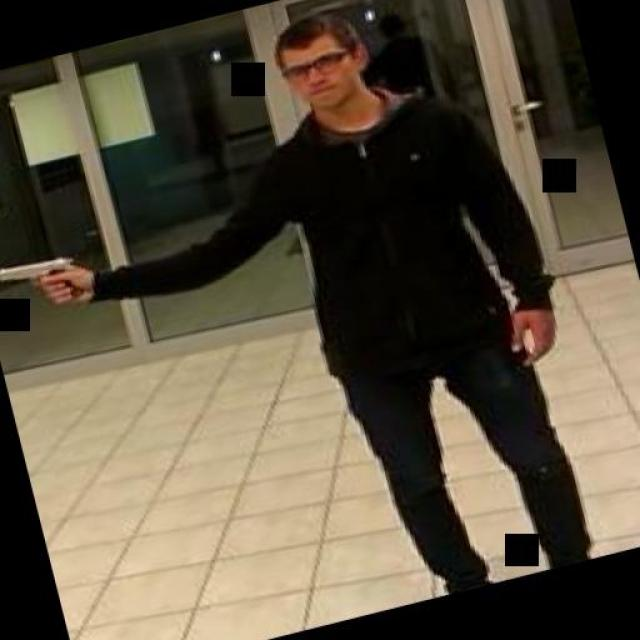gun: (0, 244, 91, 320)
